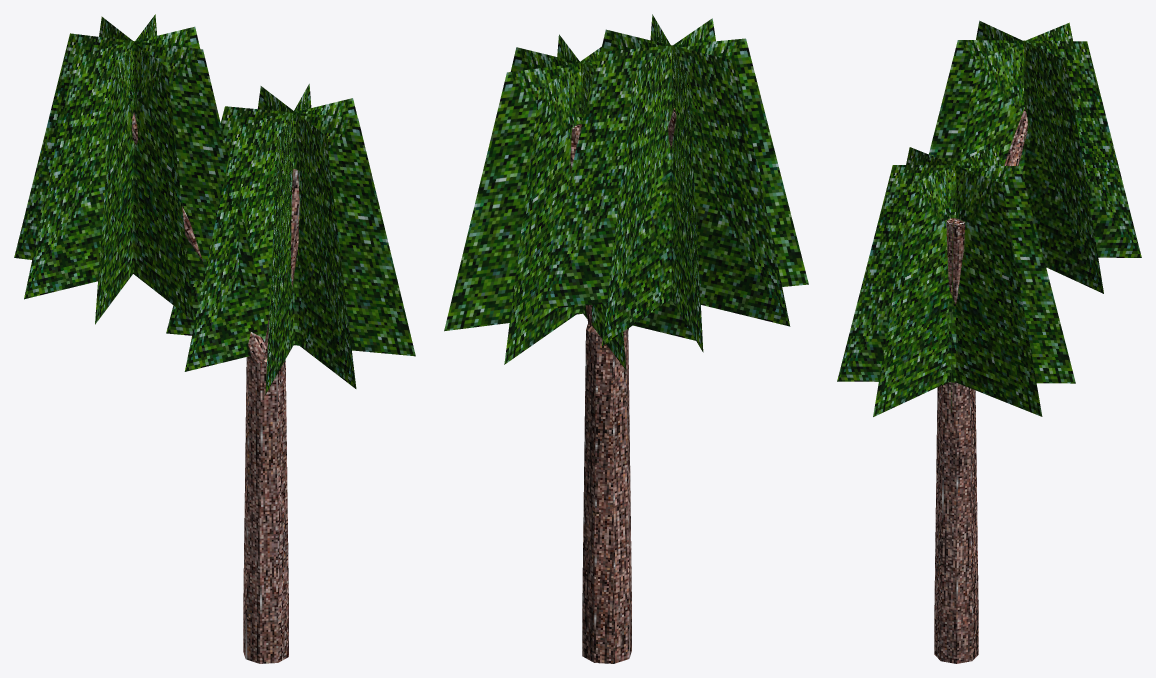
File: Arbol.fbx
The picture shows the model from 3 angles, left to right: view 1: azimuth 30°, elevation 25°; view 2: azimuth 150°, elevation 25°; view 3: azimuth 270°, elevation 25°; orthographic projection. The views are drawn at different scales.
Visible parts, largest first — view 1: pPlane11; view 2: pPlane11; view 3: pPlane11.
Boxes of the visible parts, x1=… form: pPlane11: x1=14, y1=14, x2=415, y2=663; pPlane11: x1=444, y1=14, x2=808, y2=663; pPlane11: x1=837, y1=20, x2=1141, y2=663.
Size of the model in its own units: 192 by 326 by 158.
